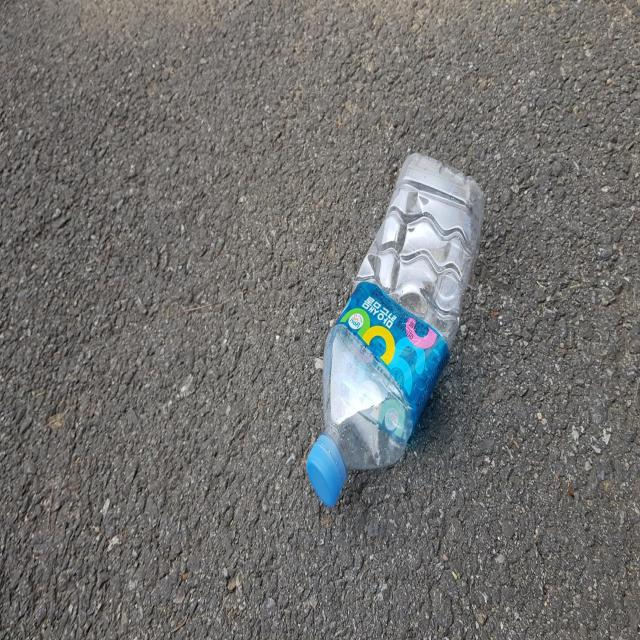plastic: (307, 152, 485, 506)
